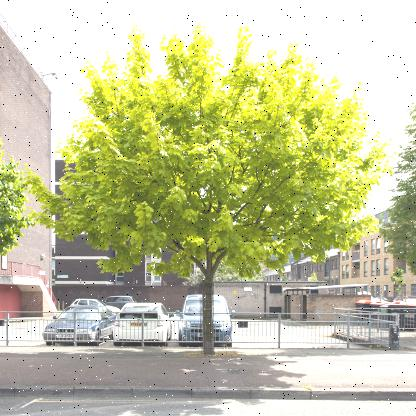Tree: (44, 29, 376, 350), (378, 85, 415, 351), (0, 126, 32, 290)
